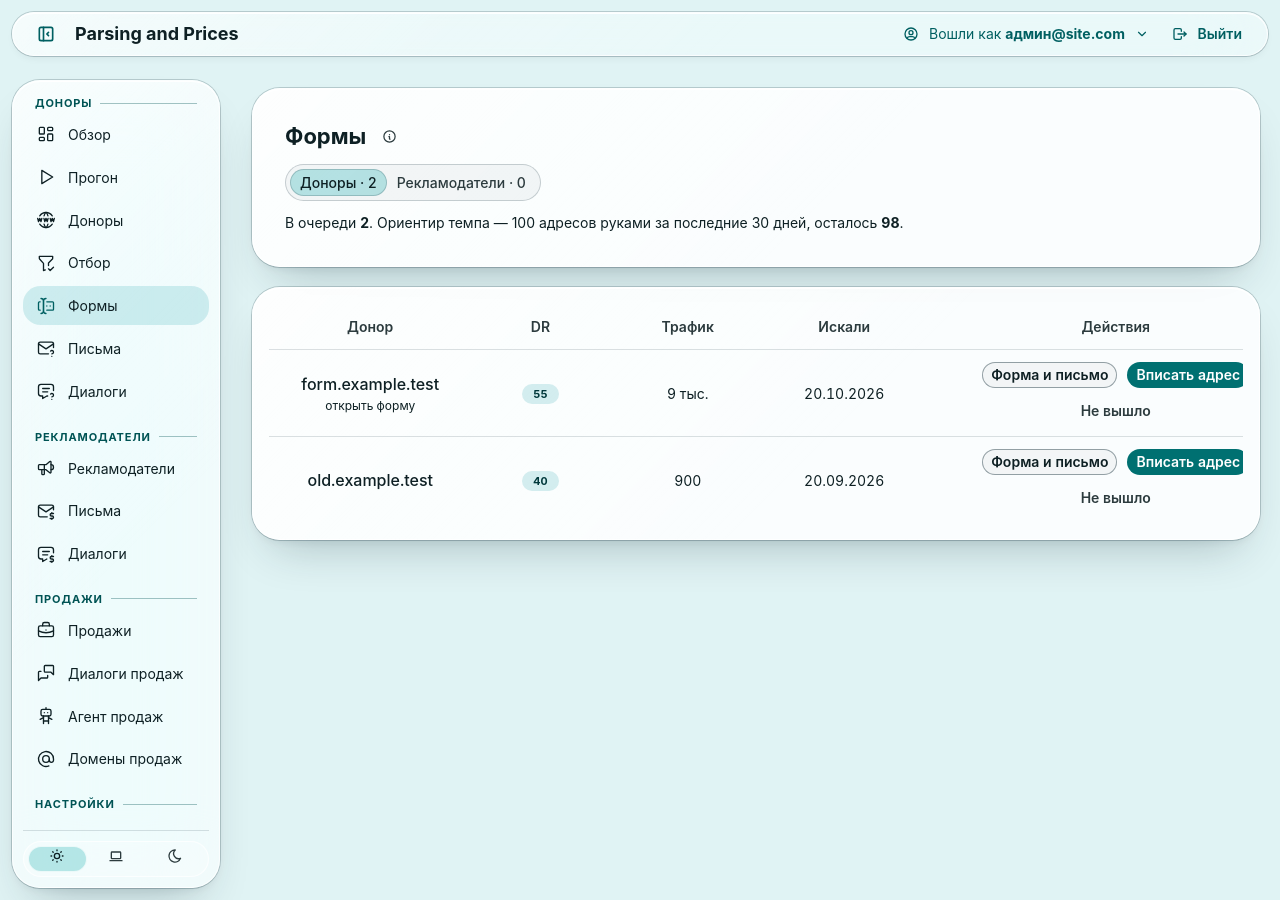
Test: «Формы»: окно «Форма и письмо» › адрес формы не записан — окно ведёт на сайт и говорит почему
Expected: the link "form.example.test" is shown, [301,372,439,396]
Click the button "Форма и письмо" in the row of "old".
click(1050, 462)  # box [982,450,1117,476]
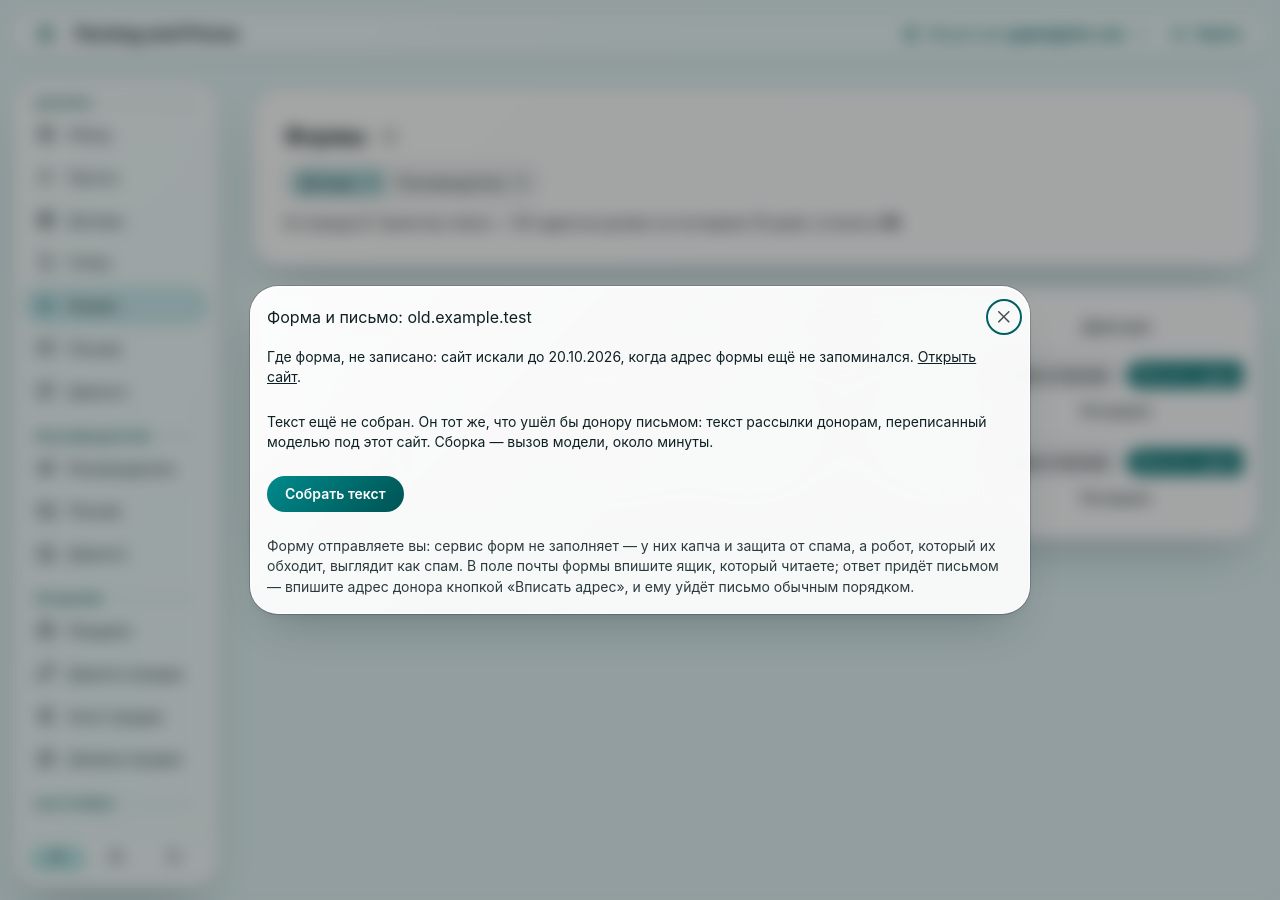
Now the text "Где форма, не записано" is shown, box [267,348,914,365]
